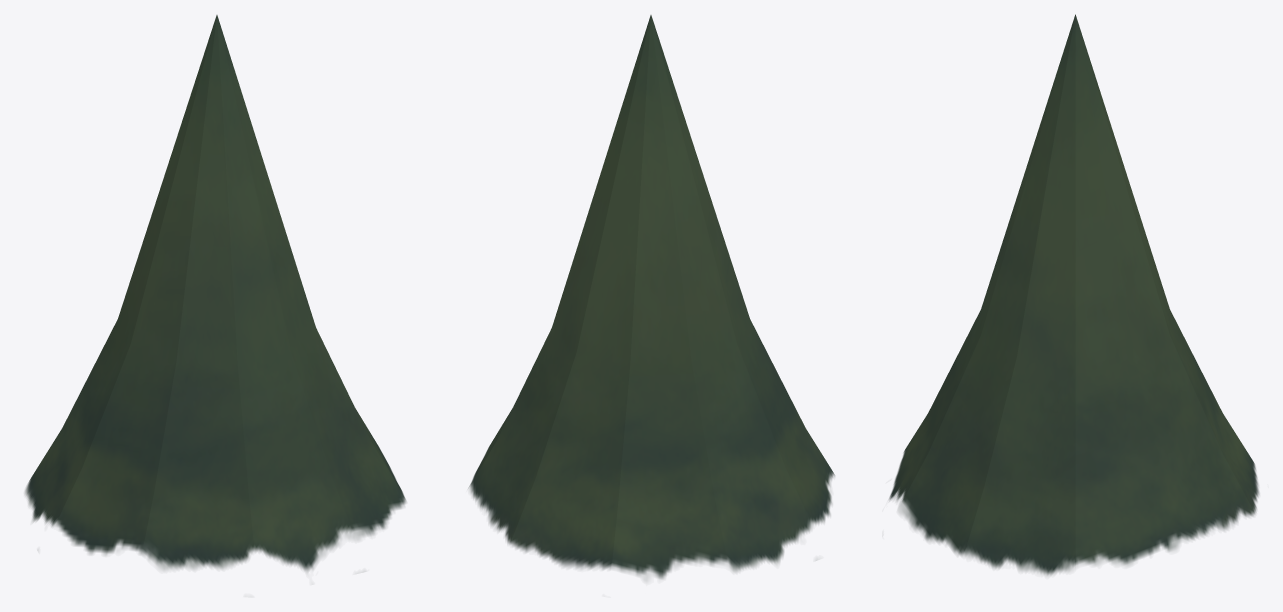
File: polysurface154_lambert6_0_lev2.glb
3 views of the same model, side by side, from view 1: azimuth 30°, elevation 25°; view 2: azimuth 150°, elevation 25°; view 3: azimuth 270°, elevation 25° (orthographic).
Visible parts, largest first — view 1: polysurface154_lambert6_0_lev2; view 2: polysurface154_lambert6_0_lev2; view 3: polysurface154_lambert6_0_lev2.
Boxes of the visible parts, <box> form: polysurface154_lambert6_0_lev2: <box>25,15,406,572</box>; polysurface154_lambert6_0_lev2: <box>468,15,834,580</box>; polysurface154_lambert6_0_lev2: <box>889,14,1259,575</box>.
Bounding box in the file's own units: 2.74 × 3.71 × 2.61.
Materials: 1 (1 with a texture image).
